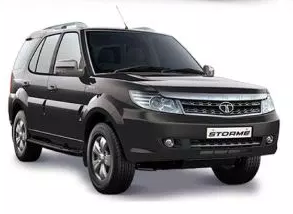car: (6, 4, 282, 201)
